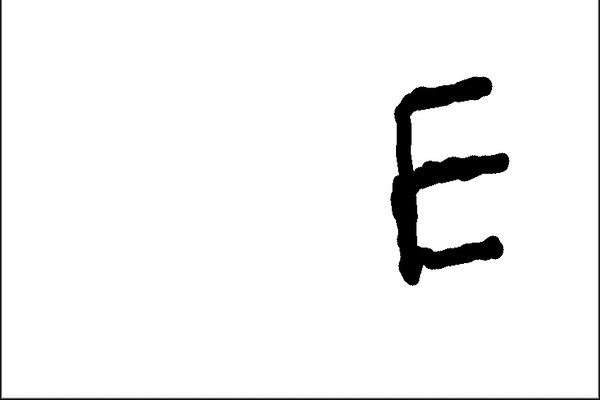E: (384, 71, 510, 287)
